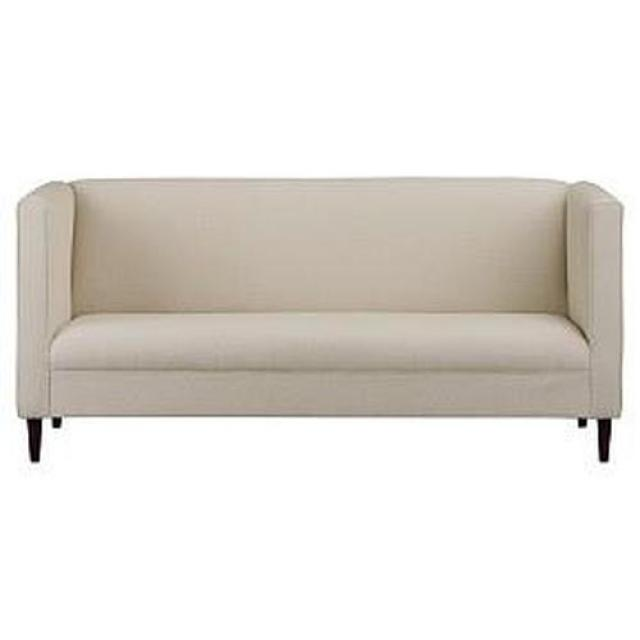sofa: (14, 175, 627, 462)
